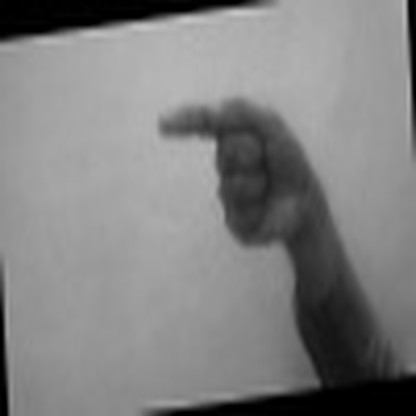g: (138, 77, 347, 259)
